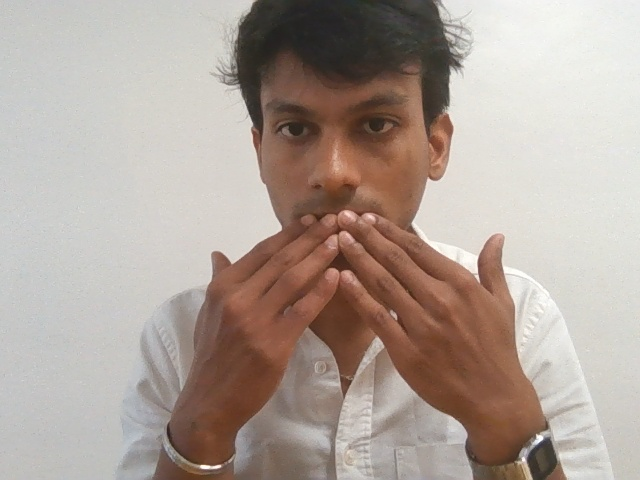ThankYou: (168, 203, 544, 463)
